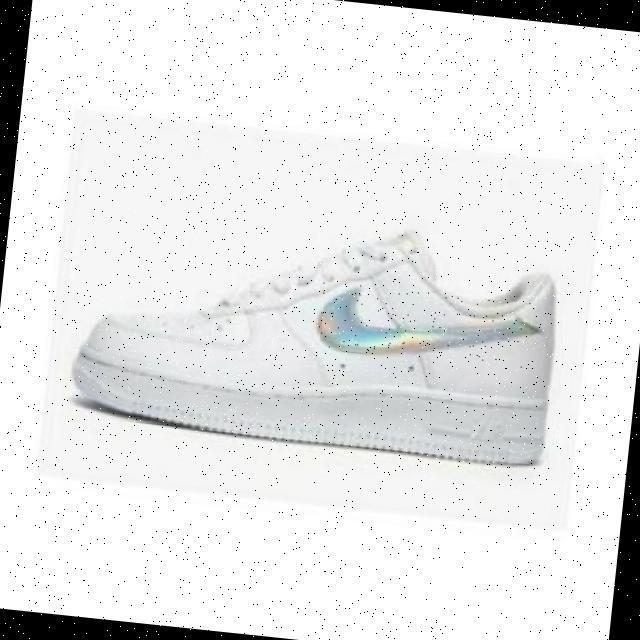Nike: (313, 281, 532, 369)
